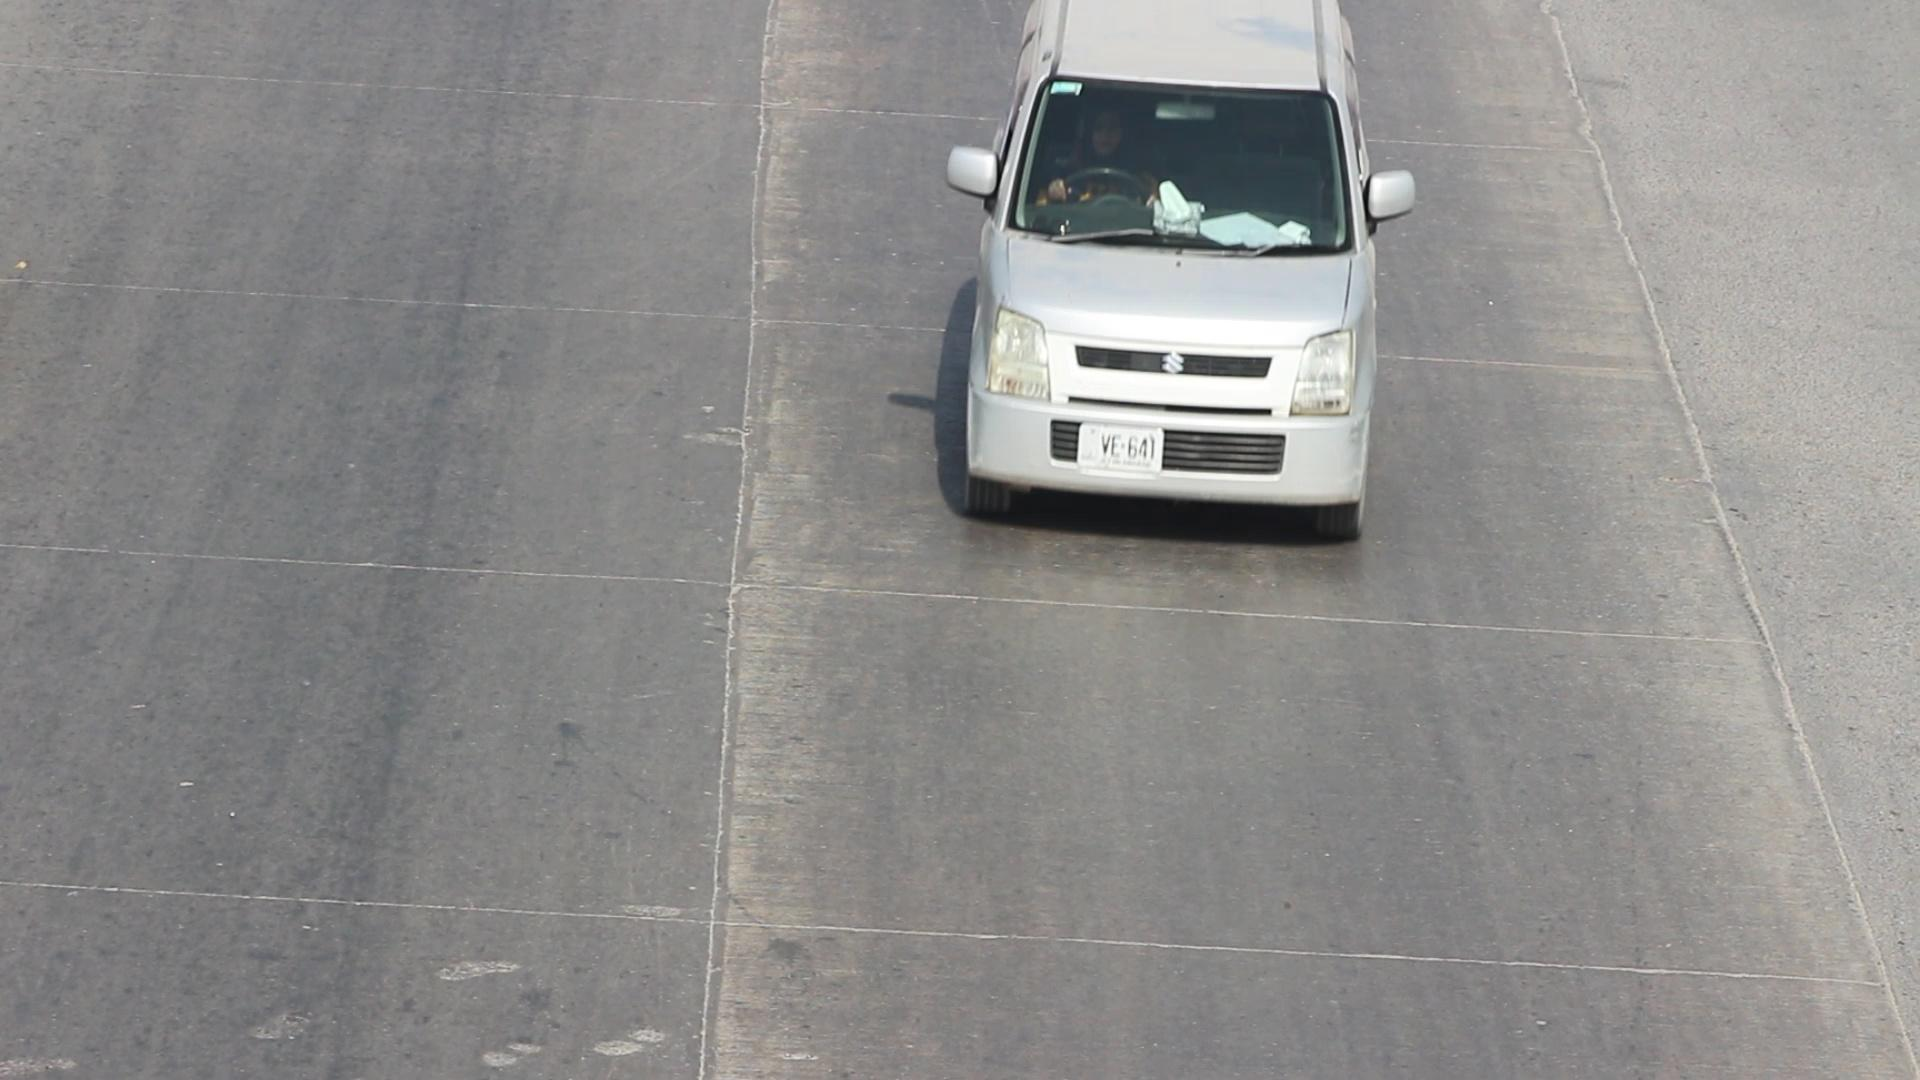windshield: (997, 44, 1361, 257)
